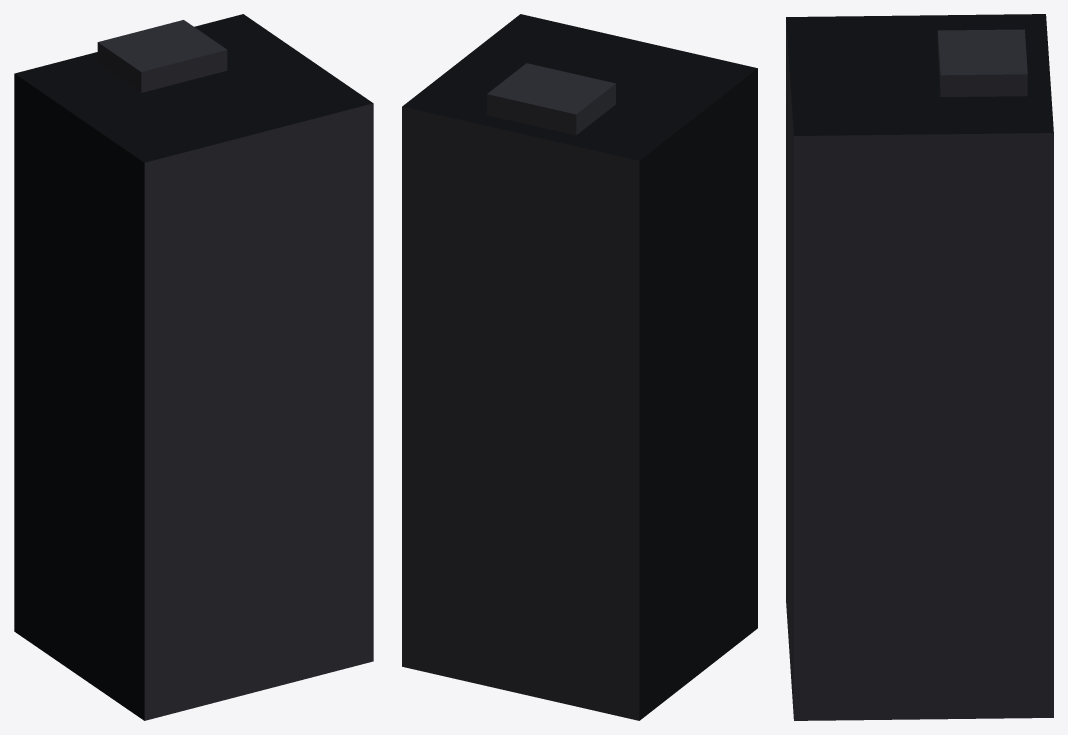
Rendered from building-in-chattanooga-tn-usa-cf0c0c28.glb.
3 views of the same model, side by side, from view 1: azimuth 30°, elevation 25°; view 2: azimuth 150°, elevation 25°; view 3: azimuth 270°, elevation 25° (orthographic). The views are drawn at different scales.
Parts seen in each view (by area): view 1: LOD0; view 2: LOD0; view 3: LOD0.
Boxes of the visible parts, x1,y1,x2,y2 form: LOD0: (14, 14, 373, 720); LOD0: (402, 14, 757, 720); LOD0: (786, 14, 1053, 720).
Size of what is drawn, in the model's own units: 35.28 by 81.74 by 32.7.
Materials: 1 (1 with a texture image).
